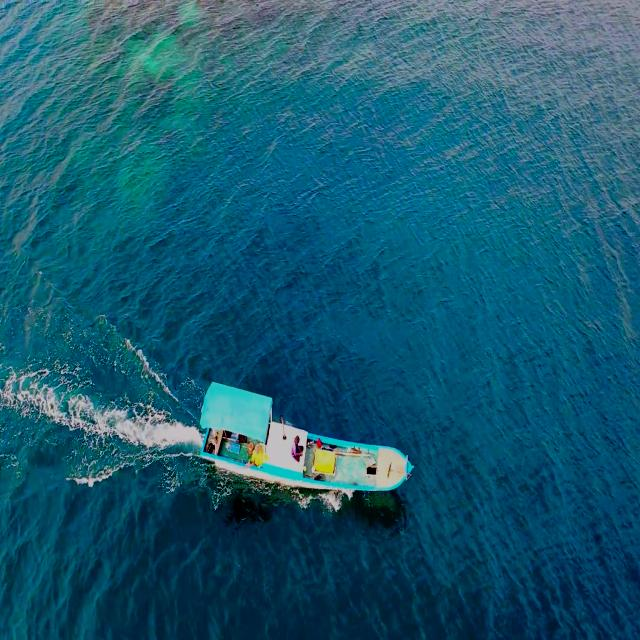ship: (198, 376, 419, 506)
